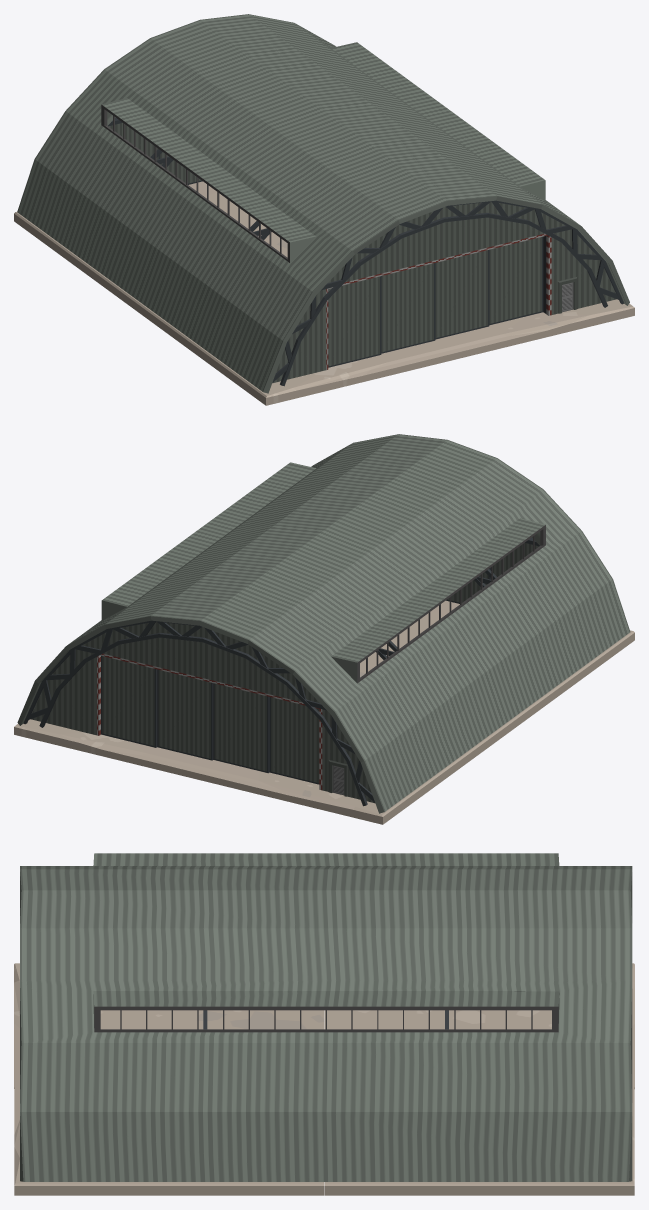
Rendered from SM_Bld_Hangar_01.fbx.
3 views of the same model, one above another, from view 1: azimuth 30°, elevation 25°; view 2: azimuth 150°, elevation 25°; view 3: azimuth 270°, elevation 25° (orthographic). The views are drawn at different scales.
Parts seen in each view (by area): view 1: SM_Bld_Hangar_01, SM_Bld_Hangar_Door_02, SM_Bld_Hangar_Door_03, SM_Bld_Hangar_Door_01, SM_Bld_Hangar_Door_04; view 2: SM_Bld_Hangar_01, SM_Bld_Hangar_Door_05, SM_Bld_Hangar_Door_06, SM_Bld_Hangar_Door_07, SM_Bld_Hangar_Door_08; view 3: SM_Bld_Hangar_01.
Boxes of the visible parts, left/top/right/bottom form: SM_Bld_Hangar_01: left=14, top=14, right=634, bottom=405; SM_Bld_Hangar_Door_02: left=381, top=263, right=435, bottom=353; SM_Bld_Hangar_Door_03: left=435, top=250, right=489, bottom=339; SM_Bld_Hangar_Door_01: left=328, top=276, right=381, bottom=367; SM_Bld_Hangar_Door_04: left=489, top=236, right=543, bottom=325; SM_Bld_Hangar_01: left=14, top=434, right=634, bottom=824; SM_Bld_Hangar_Door_05: left=101, top=656, right=157, bottom=747; SM_Bld_Hangar_Door_06: left=157, top=669, right=213, bottom=760; SM_Bld_Hangar_Door_07: left=213, top=683, right=269, bottom=773; SM_Bld_Hangar_Door_08: left=269, top=697, right=319, bottom=784; SM_Bld_Hangar_01: left=14, top=853, right=634, bottom=1195.
Size of the model in its own units: 3063 by 1252 by 3626.
